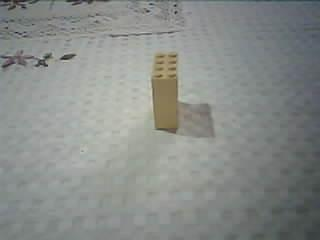lego: (148, 51, 179, 131)
